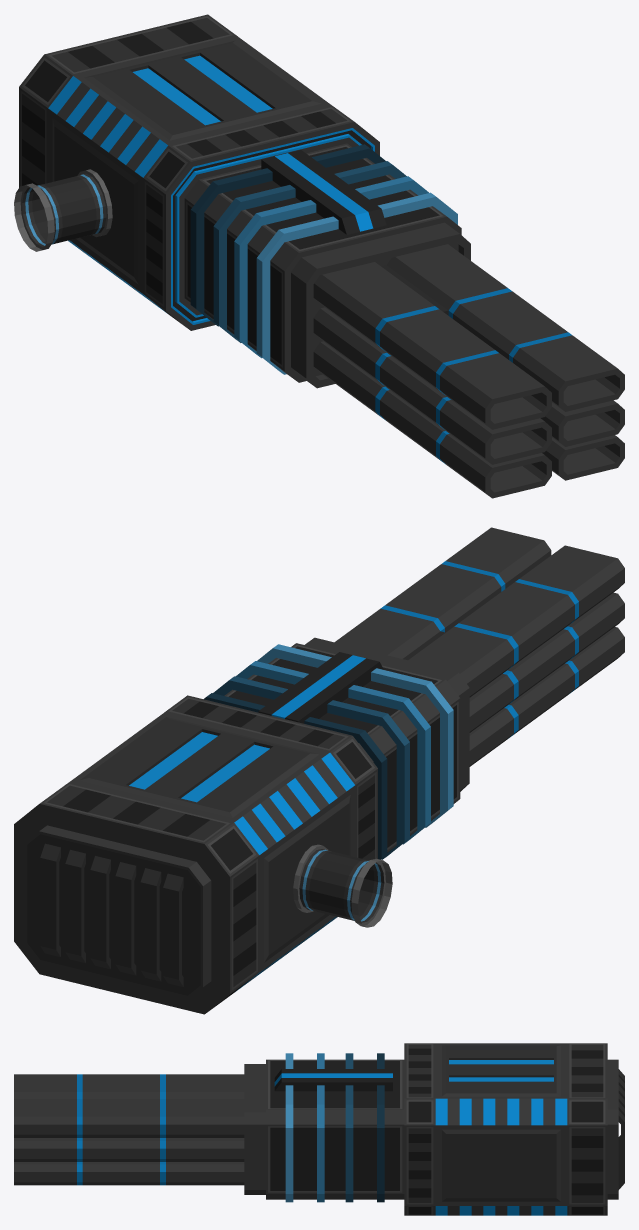
File: BTg.FBX
3 views of the same model, one above another, from view 1: azimuth 30°, elevation 25°; view 2: azimuth 150°, elevation 25°; view 3: azimuth 270°, elevation 25° (orthographic). The views are drawn at different scales.
Parts seen in each view (by area): view 1: BT; view 2: BT; view 3: BT.
Boxes of the visible parts, x1,y1,x2,y2 form: BT: (14, 14, 624, 498); BT: (14, 527, 624, 1014); BT: (14, 1043, 624, 1215).
Size of the model in its own units: 173 by 101 by 470.
